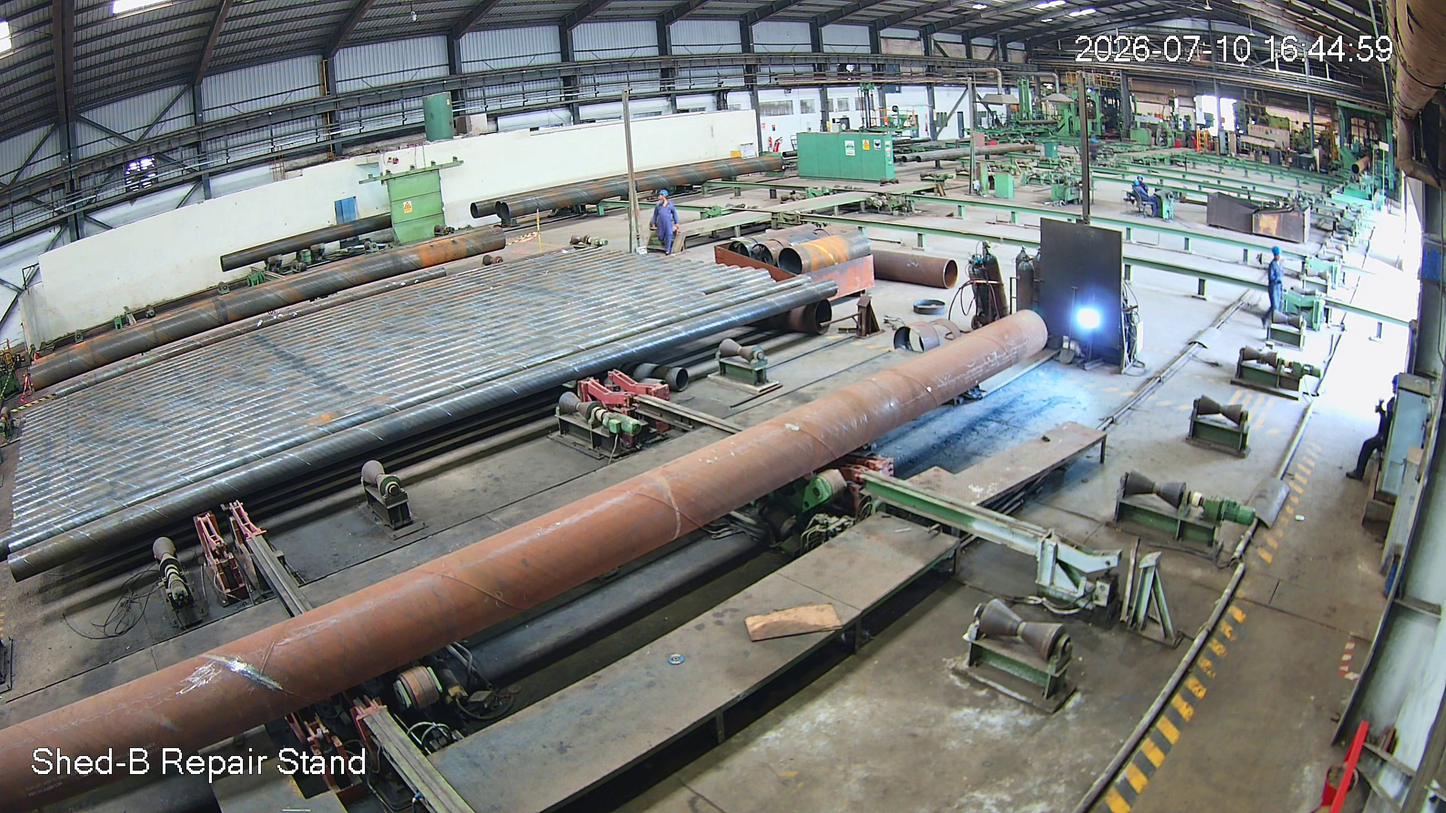Helmet: (657, 189, 672, 205), (1271, 245, 1283, 262)
Person: (652, 190, 678, 258), (1266, 247, 1285, 326)
